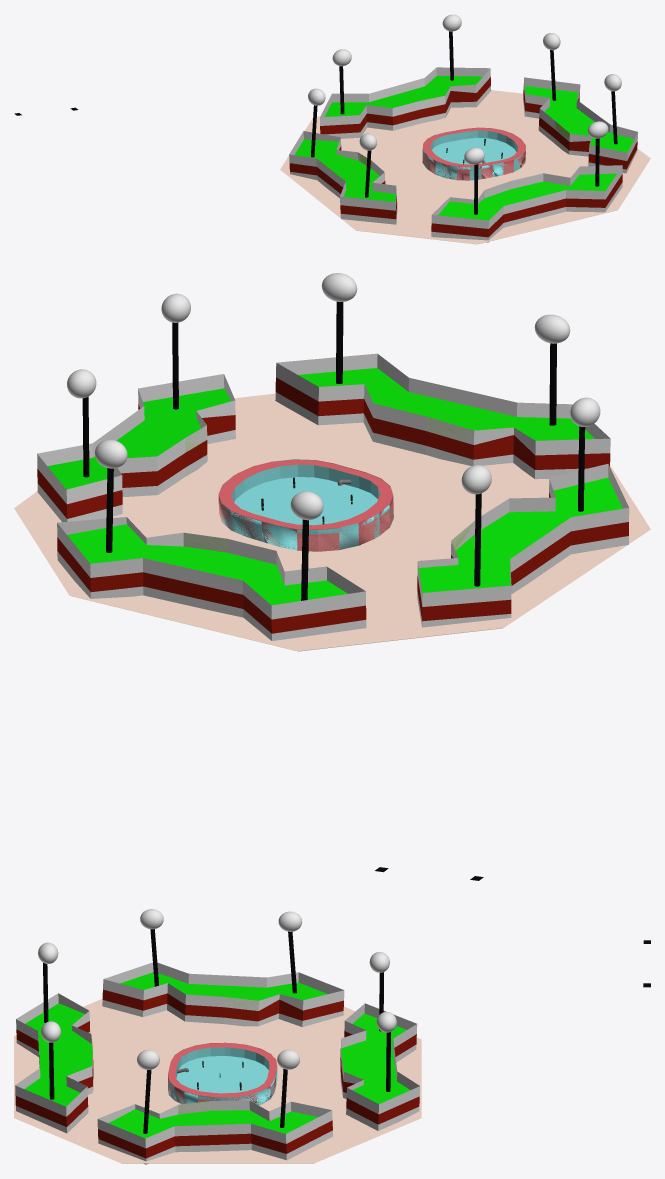
Rendered from meuntitled.fbx.
3 views of the same model, one above another, from view 1: azimuth 30°, elevation 25°; view 2: azimuth 150°, elevation 25°; view 3: azimuth 270°, elevation 25° (orthographic). The views are drawn at different scales.
Visible parts, largest first — view 1: Plane.003, Cube.002, Cube.006, Cube.004, Cube.003, Cube; view 2: Plane.003, Cube.002, Cube.006, Cube.004, Cube.003, Cube; view 3: Plane.003, Cube.004, Cube.003, Cube.002, Cube.006, Cube, Sphere.007, Sphere.006, Sphere.004, Sphere.005.
Boxes of the visible parts, box(x1,y1,x2,y2) form: Plane.003: box(280, 90, 650, 244); Cube.002: box(431, 165, 622, 242); Cube.006: box(320, 67, 491, 138); Cube.004: box(289, 131, 397, 224); Cube.003: box(523, 77, 637, 173); Cube: box(422, 127, 525, 180); Plane.003: box(14, 393, 650, 651); Cube.002: box(275, 353, 610, 479); Cube.006: box(57, 517, 366, 640); Cube.004: box(417, 464, 629, 627); Cube.003: box(37, 374, 235, 522); Cube: box(218, 459, 393, 551); Plane.003: box(14, 998, 421, 1163); Cube.004: box(102, 962, 344, 1027); Cube.003: box(97, 1100, 332, 1164); Cube.002: box(15, 993, 93, 1133); Cube.006: box(340, 1003, 419, 1130); Cube: box(168, 1042, 277, 1105); Sphere.007: box(278, 911, 302, 931); Sphere.006: box(140, 909, 163, 929); Sphere.004: box(277, 1049, 299, 1069); Sphere.005: box(137, 1049, 159, 1069).
Size of the model in its own units: 7100 by 1768 by 7889.
